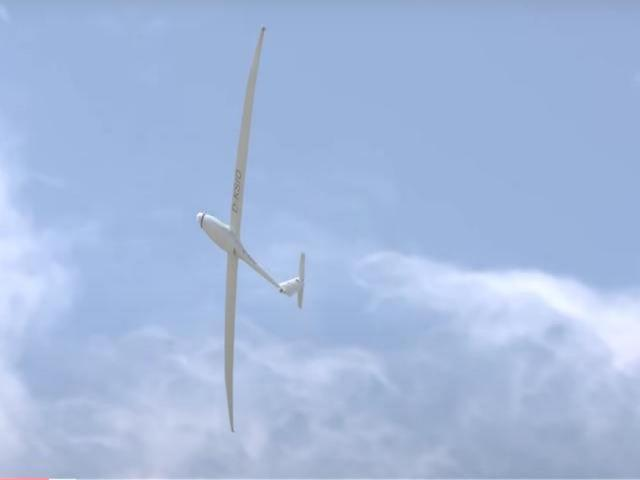iha: (195, 25, 312, 434)
